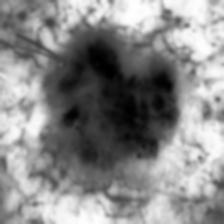Potentially Malignant Skin Tumors: (57, 36, 180, 170)
